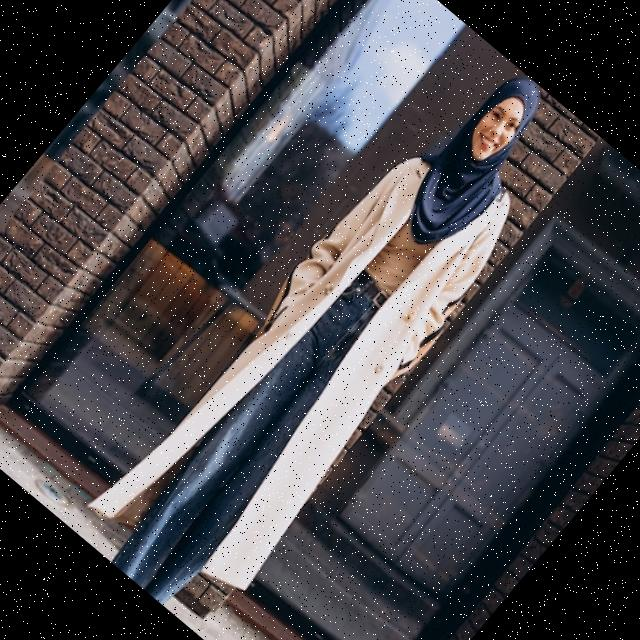Person: (69, 36, 614, 638)
